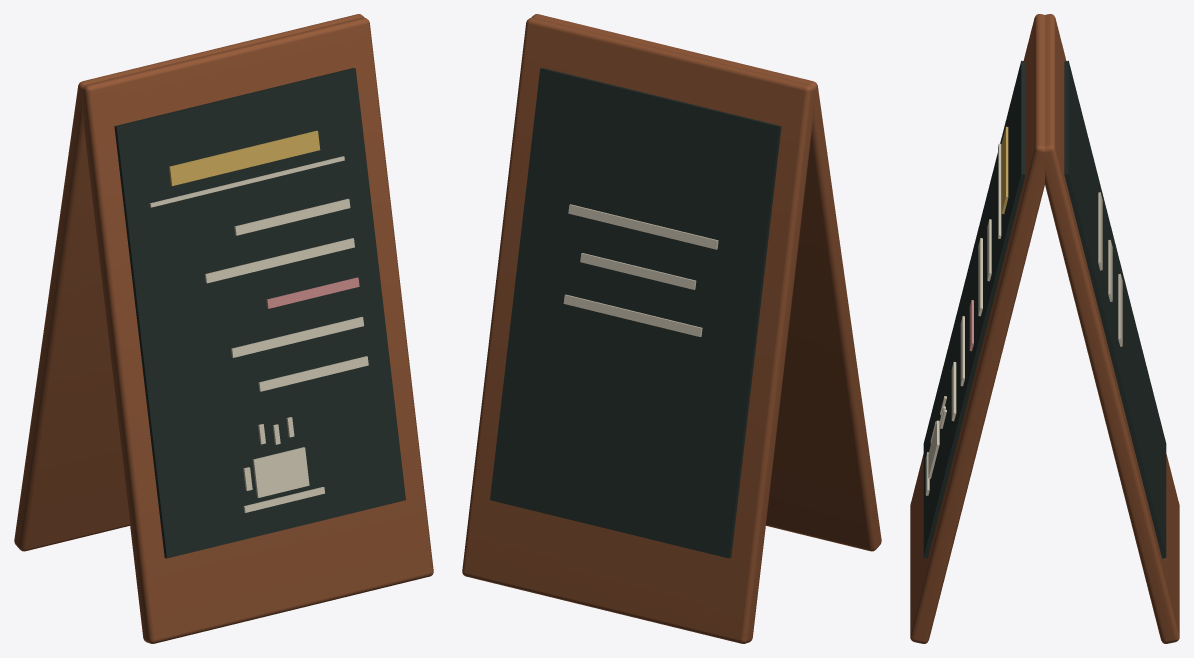
The model's file is menu-board.glb.
The picture shows the model from 3 angles, left to right: view 1: azimuth 30°, elevation 25°; view 2: azimuth 150°, elevation 25°; view 3: azimuth 270°, elevation 25°; orthographic projection. The views are drawn at different scales.
Visible parts, largest first — view 1: menu-board; view 2: menu-board; view 3: menu-board.
Part boxes in pixels (<box>): menu-board: <box>14,14,433,643</box>; menu-board: <box>462,14,881,643</box>; menu-board: <box>910,14,1179,643</box>.
Size of the model in its own units: 0.5 by 0.8606 by 0.4215.
